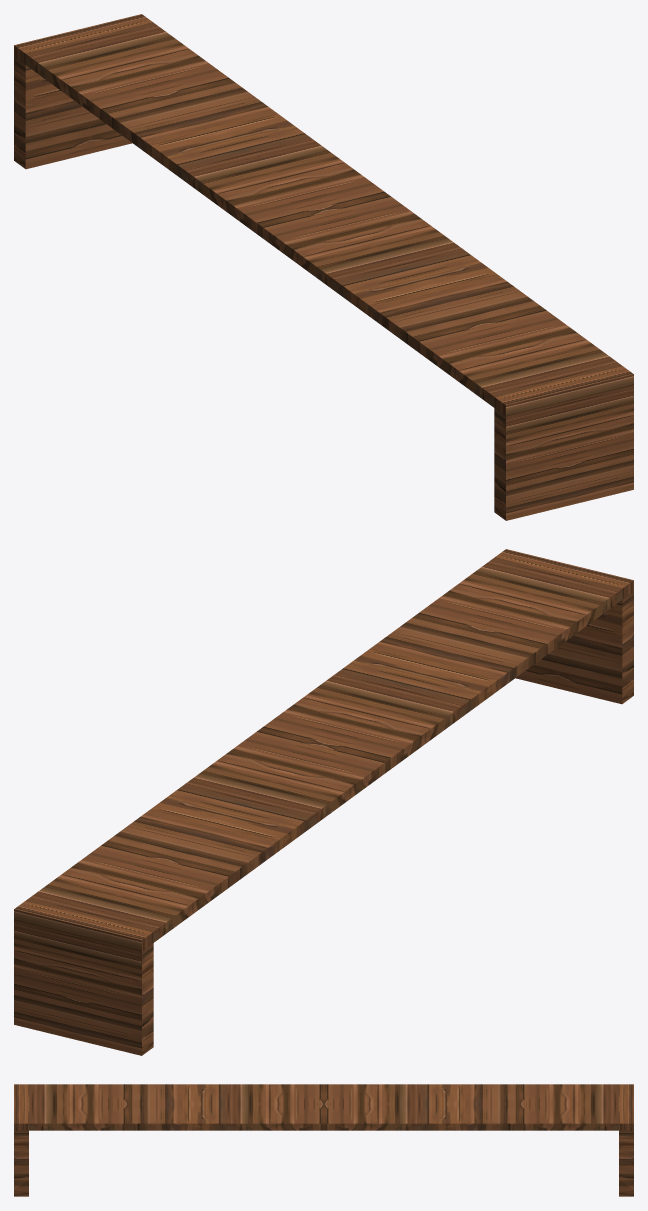
Rendered from table.dae.
3 views of the same model, one above another, from view 1: azimuth 30°, elevation 25°; view 2: azimuth 150°, elevation 25°; view 3: azimuth 270°, elevation 25° (orthographic). The views are drawn at different scales.
Parts seen in each view (by area): view 1: table; view 2: table; view 3: table.
Boxes of the visible parts, x1,y1,x2,y2 form: table: (14, 14, 633, 520); table: (14, 549, 633, 1055); table: (14, 1084, 633, 1196).
Size of the model in its own units: 6 by 40 by 5.18.
Materials: 1 (1 with a texture image).
